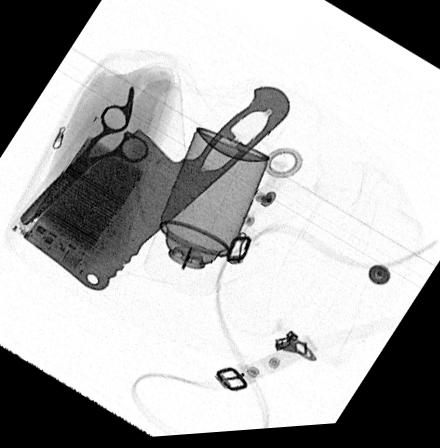Knife: (22, 90, 288, 291)
Powerbank: (12, 123, 156, 279)
Scissors: (18, 87, 150, 228)
Sprayer: (145, 130, 269, 299)
